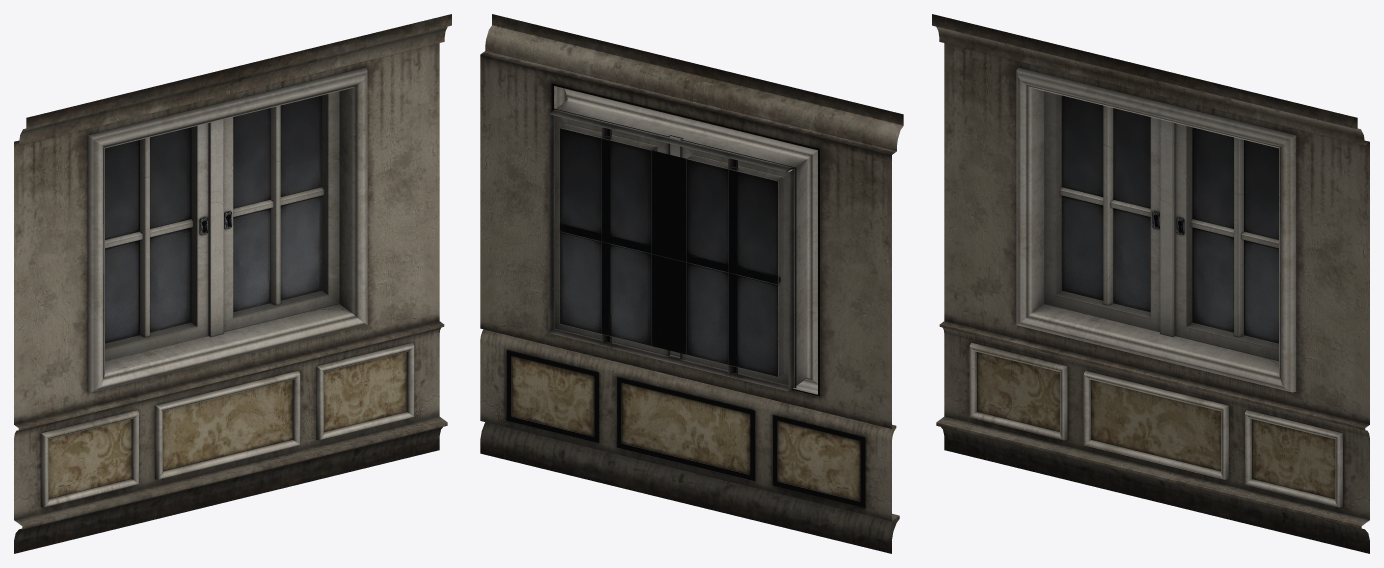
Rendered from window_blue.dae.
The picture shows the model from 3 angles, left to right: view 1: azimuth 30°, elevation 25°; view 2: azimuth 150°, elevation 25°; view 3: azimuth 330°, elevation 25°; orthographic projection. The views are drawn at different scales.
Visible parts, largest first — view 1: mansionbase_wall_window1, mansionbase_wall_windowglass; view 2: mansionbase_wall_window1, mansionbase_wall_windowglass; view 3: mansionbase_wall_window1, mansionbase_wall_windowglass.
Boxes of the visible parts, <box> form: mansionbase_wall_window1: <box>14,14,451,553</box>; mansionbase_wall_windowglass: <box>105,95,322,343</box>; mansionbase_wall_window1: <box>480,14,903,553</box>; mansionbase_wall_windowglass: <box>560,128,777,376</box>; mansionbase_wall_window1: <box>932,14,1369,553</box>; mansionbase_wall_windowglass: <box>1061,95,1278,343</box>.
Size of the model in its own units: 4 by 4 by 0.4944.
